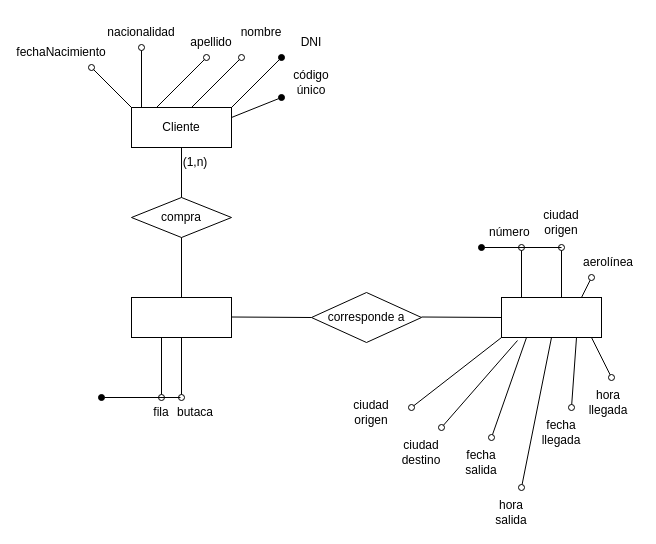
Some shapes in this 656 by 544 pixel diagram are drawn without their labels. Each missing label, with the centre of its shape:
Pasaje: the point at 181,317
Vuelo: the point at 551,317
